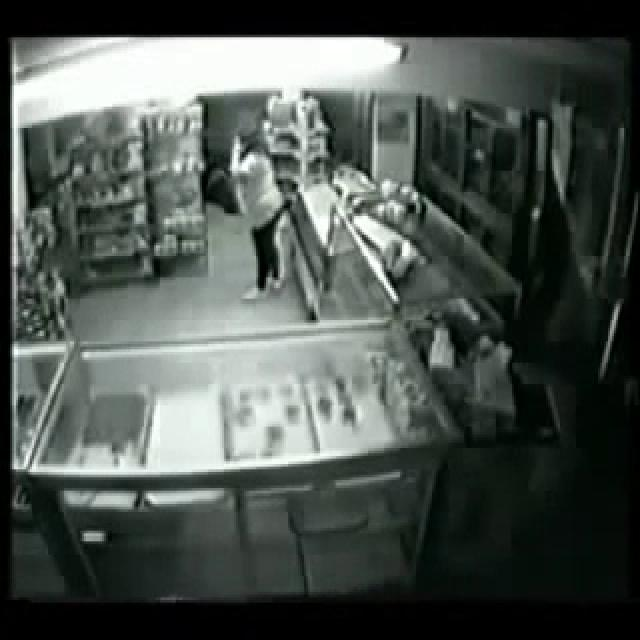shooting: (195, 59, 465, 504)
